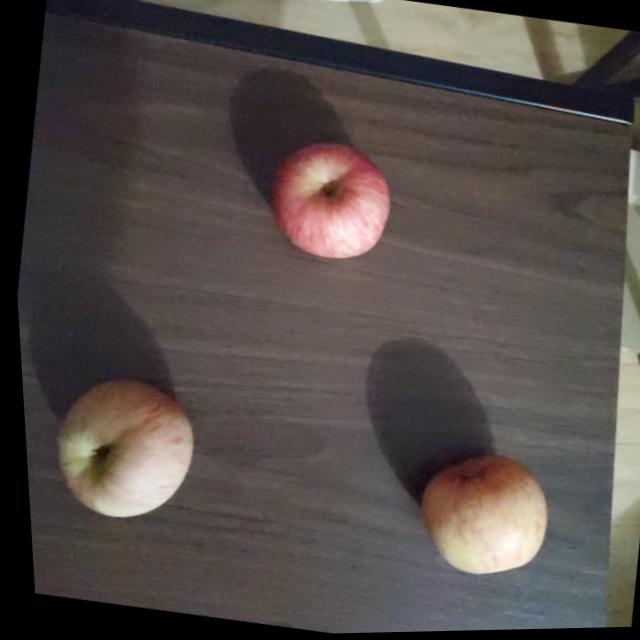apple: (41, 367, 204, 528), (405, 445, 555, 588), (259, 136, 398, 271)
